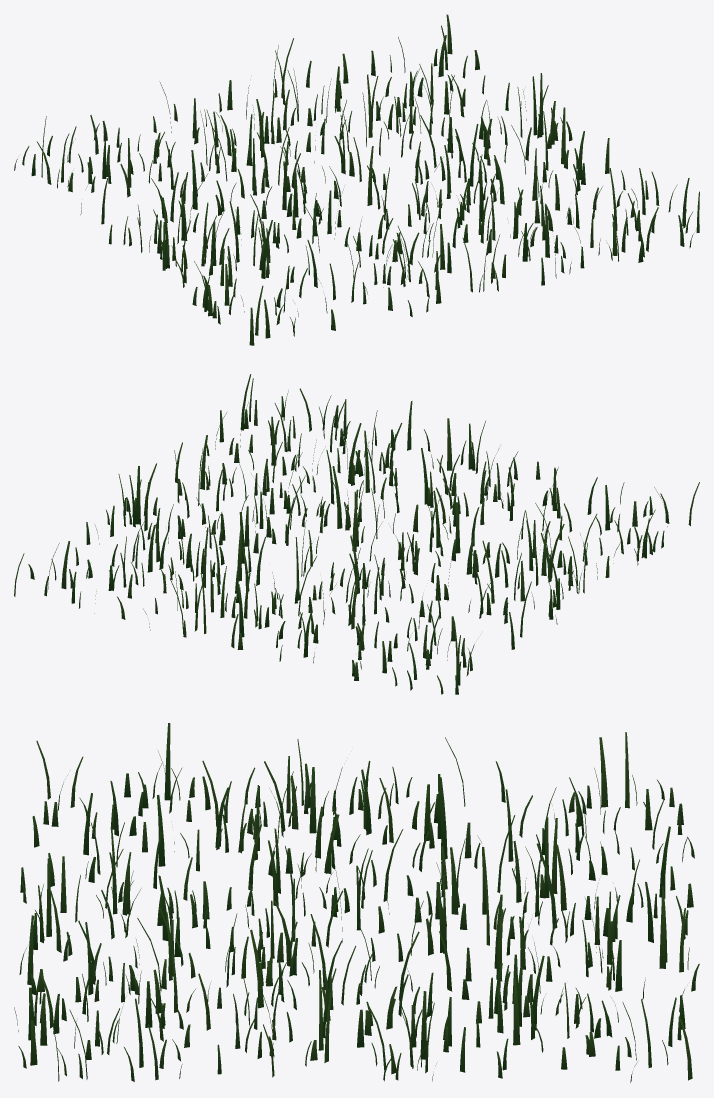
Rendered from Turf_Shade_v2.glb.
The picture shows the model from 3 angles, top to bottom: view 1: azimuth 30°, elevation 25°; view 2: azimuth 150°, elevation 25°; view 3: azimuth 270°, elevation 25°; orthographic projection. The views are drawn at different scales.
Parts seen in each view (by area): view 1: Turf_Shade_v2; view 2: Turf_Shade_v2; view 3: Turf_Shade_v2.
Boxes of the visible parts, bbox=[...] form: Turf_Shade_v2: bbox=[14, 14, 699, 345]; Turf_Shade_v2: bbox=[14, 374, 699, 694]; Turf_Shade_v2: bbox=[14, 723, 699, 1082].
Bounding box in the file's own units: 1.25 × 0.1579 × 1.24.
